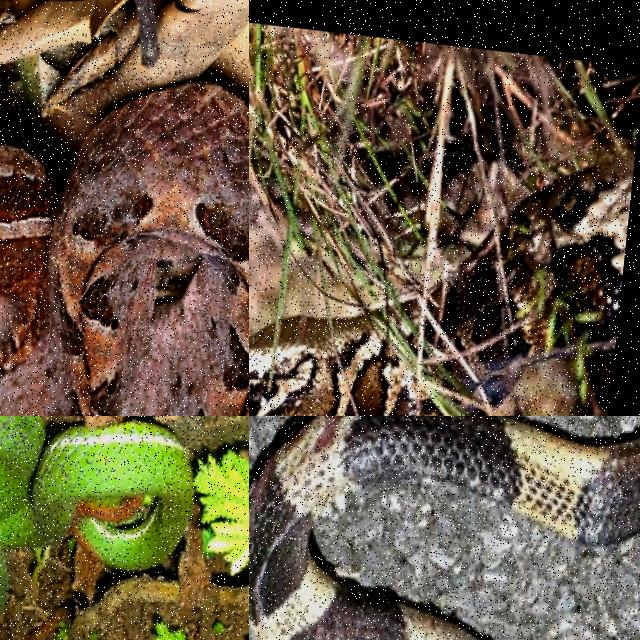Bungarus candidus: (249, 416, 639, 639)
Calloselasma rhodostoma: (0, 83, 248, 415)
Python bivittatus: (438, 151, 635, 405)
Trimeresurus: (0, 416, 193, 610)
